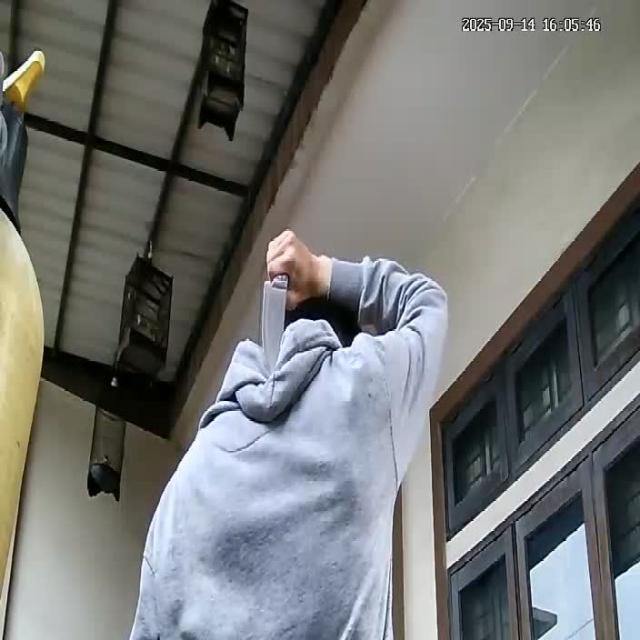senjata_tajam: (262, 274, 289, 377)
